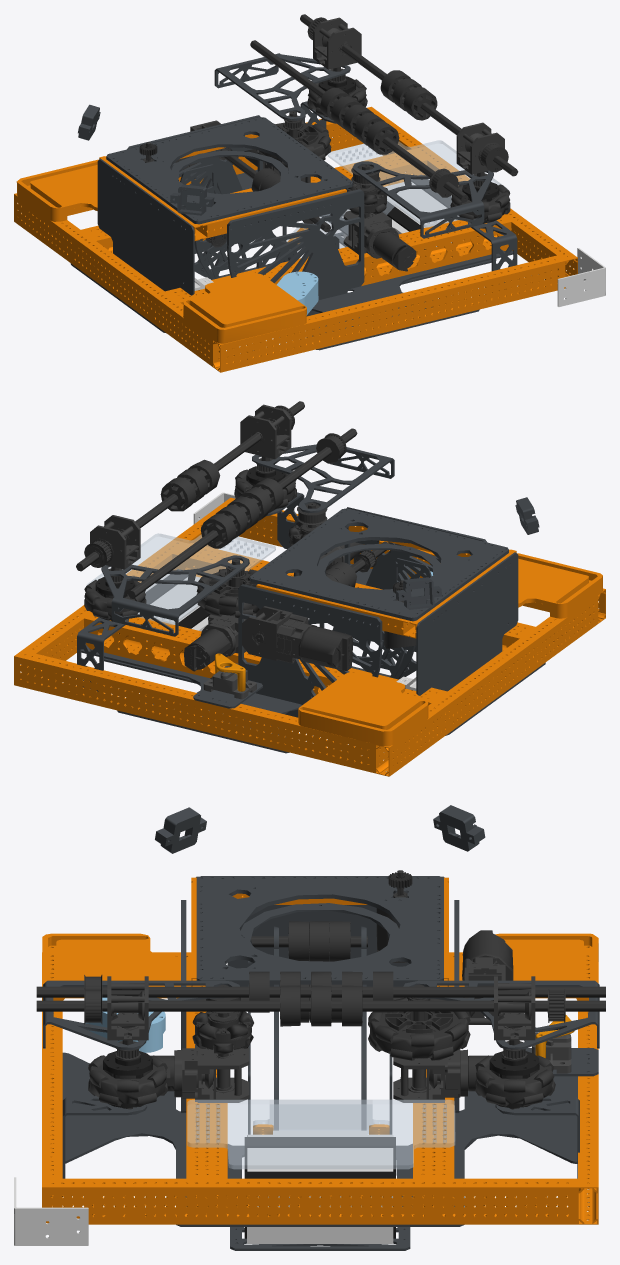
File: 8793-body.glb
3 renders of one model, top to bottom at view 1: azimuth 30°, elevation 25°; view 2: azimuth 150°, elevation 25°; view 3: azimuth 270°, elevation 25°, orthographic. The views are drawn at different scales.
Visible parts, largest first — view 1: Top Back Right, Polycarb Plate Hinge, 26t Custom HTD 5mm Pulley (0.75" Wide, *0.507" Hex Bore), MAX 90 Degree Gearbox (REV), Polycarb bottom plate, Steel Corner Bracket, Part 1 (×2), 1" Inside Corner Bracket, Front Battery Strap; view 2: Top Back Right, Polycarb Plate Hinge, 26t Custom HTD 5mm Pulley (0.75" Wide, *0.507" Hex Bore), MAX 90 Degree Gearbox (REV), Polycarb bottom plate, 1" Inside Corner Bracket, 120A Main Breaker, Front Battery Strap, Part 1, Main Breaker Cover; view 3: Top Back Right, Polycarb Plate Hinge, 26t Custom HTD 5mm Pulley (0.75" Wide, *0.507" Hex Bore), Polycarb bottom plate, MAX 90 Degree Gearbox (REV), 1" Inside Corner Bracket, Front Battery Strap, Part 1 (×2), Steel Corner Bracket, 120A Main Breaker.
Boxes of the visible parts, <box> form: Top Back Right: <box>70,53,517,350</box>; Polycarb Plate Hinge: <box>14,106,577,372</box>; 26t Custom HTD 5mm Pulley (0.75" Wide, *0.507" Hex Bore): <box>143,14,518,271</box>; MAX 90 Degree Gearbox (REV): <box>182,17,504,258</box>; Polycarb bottom plate: <box>286,140,507,254</box>; Steel Corner Bracket: <box>557,248,605,306</box>; Part 1 (×2): <box>276,76,499,315</box>; 1" Inside Corner Bracket: <box>194,179,458,290</box>; Front Battery Strap: <box>382,174,477,249</box>; Top Back Right: <box>77,444,545,753</box>; Polycarb Plate Hinge: <box>14,497,605,776</box>; 26t Custom HTD 5mm Pulley (0.75" Wide, *0.507" Hex Bore): <box>76,401,416,671</box>; MAX 90 Degree Gearbox (REV): <box>90,404,344,663</box>; Polycarb bottom plate: <box>87,533,275,625</box>; 1" Inside Corner Bracket: <box>138,574,416,690</box>; 120A Main Breaker: <box>203,663,256,699</box>; Front Battery Strap: <box>119,569,210,633</box>; Part 1: <box>95,466,285,620</box>; Main Breaker Cover: <box>215,653,245,691</box>; Top Back Right: <box>43,805,599,1250</box>; Polycarb Plate Hinge: <box>42,877,598,1224</box>; 26t Custom HTD 5mm Pulley (0.75" Wide, *0.507" Hex Bore): <box>36,870,605,1109</box>; Polycarb bottom plate: <box>187,1099,455,1169</box>; MAX 90 Degree Gearbox (REV): <box>107,957,535,1102</box>; 1" Inside Corner Bracket: <box>226,963,393,1243</box>; Front Battery Strap: <box>244,1137,395,1238</box>; Part 1 (×2): <box>85,997,539,1108</box>; Steel Corner Bracket: <box>14,1177,88,1245</box>; 120A Main Breaker: <box>532,1032,571,1073</box>.
Size of the model in its own units: 0.7204 by 0.3181 by 0.7296.
